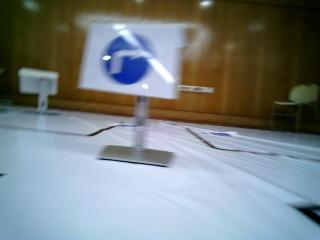right: (96, 25, 170, 88)
